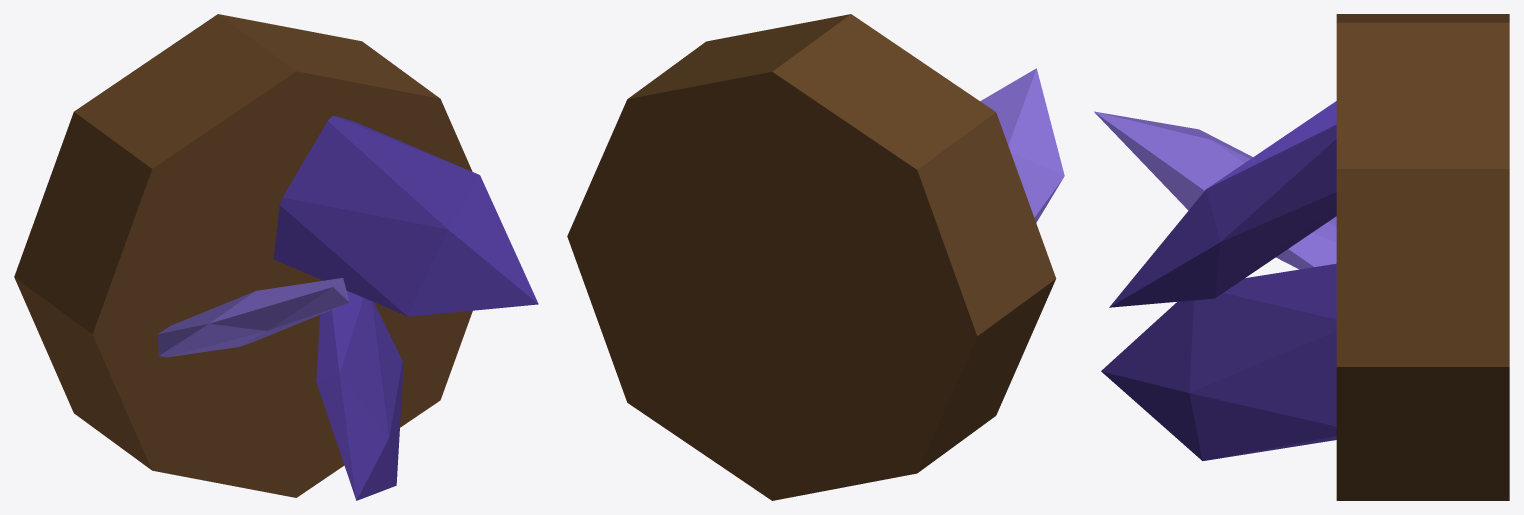
Rendered from 1_seedling.obj.
3 views of the same model, side by side, from view 1: azimuth 30°, elevation 25°; view 2: azimuth 150°, elevation 25°; view 3: azimuth 270°, elevation 25° (orthographic). The views are drawn at different scales.
Visible parts, largest first — view 1: cadantine_1_seedling; view 2: cadantine_1_seedling; view 3: cadantine_1_seedling.
Part boxes in pixels (bbox=[...]): cadantine_1_seedling: bbox=[14, 14, 538, 500]; cadantine_1_seedling: bbox=[567, 14, 1064, 500]; cadantine_1_seedling: bbox=[1094, 14, 1509, 500].
Size of the model in its own units: 0.12 by 0.12 by 0.0963.
